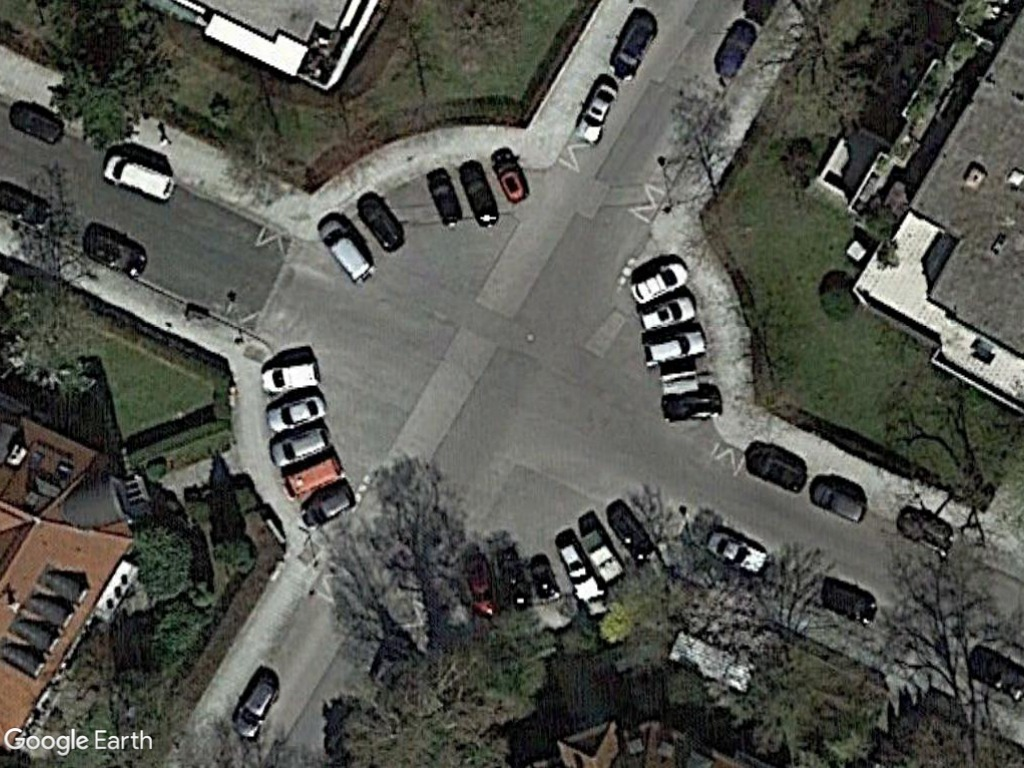car: (314, 216, 375, 285), (228, 675, 281, 743), (705, 525, 770, 577), (627, 258, 692, 306), (263, 388, 326, 436), (635, 293, 700, 338), (809, 477, 869, 525), (268, 425, 333, 468), (304, 481, 362, 529), (642, 327, 708, 369), (574, 83, 617, 146), (489, 145, 533, 204), (260, 356, 320, 397)
van: (100, 149, 178, 203)
